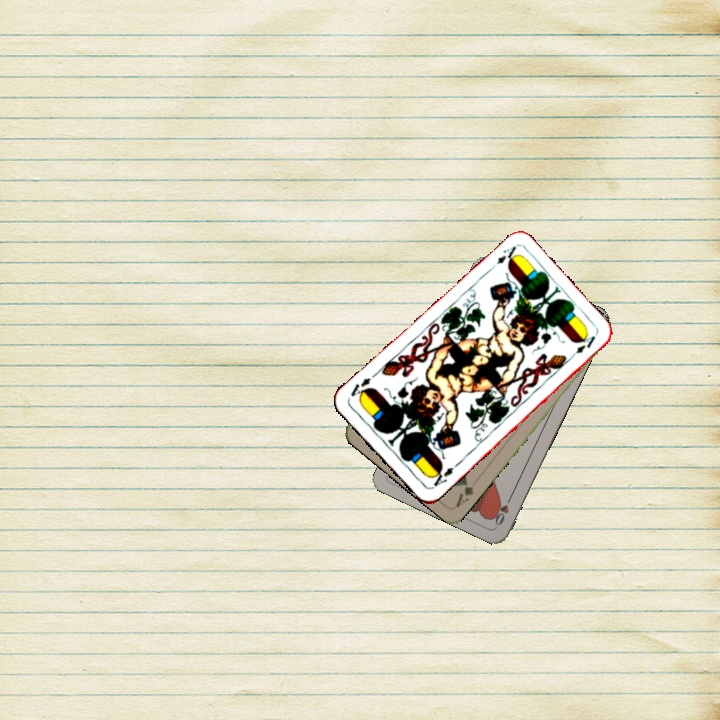EA: (486, 242, 520, 274), (426, 463, 456, 491)
GA: (451, 478, 476, 510)
HO: (490, 490, 515, 528)
